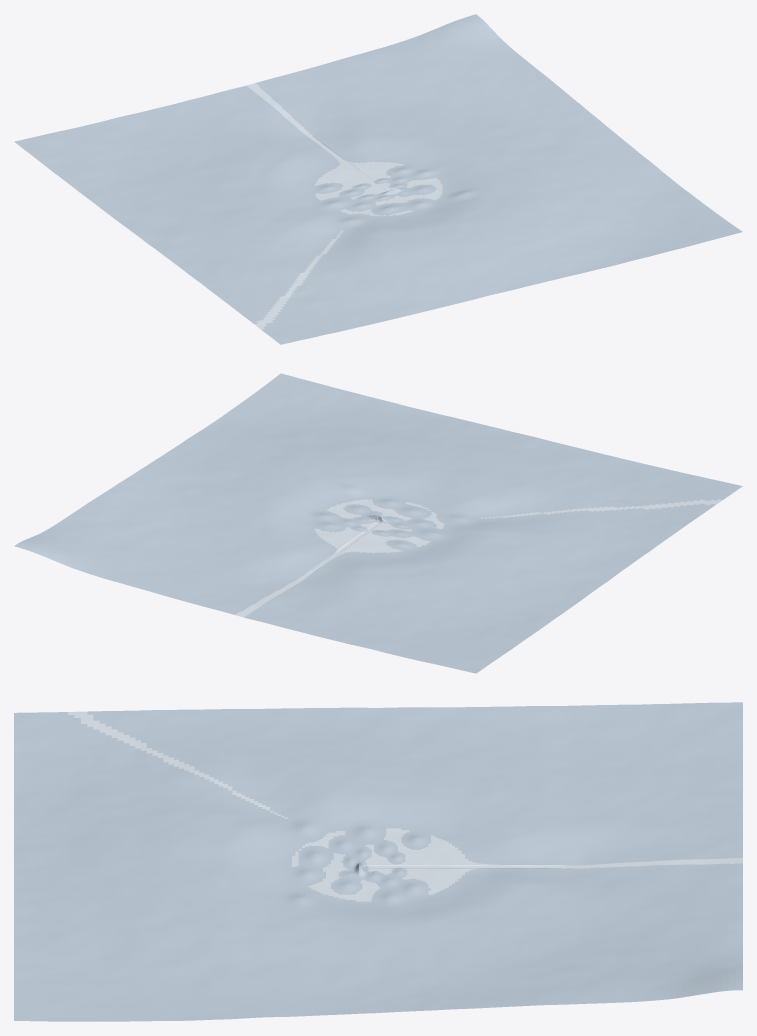
File: Frontier_Ground.fbx
3 renders of one model, top to bottom at view 1: azimuth 30°, elevation 25°; view 2: azimuth 150°, elevation 25°; view 3: azimuth 270°, elevation 25°, orthographic. The views are drawn at different scales.
Visible parts, largest first — view 1: Frontier_Ground; view 2: Frontier_Ground; view 3: Frontier_Ground.
Part boxes in pixels (left/top/right/bottom): Frontier_Ground: left=14, top=14, right=742, bottom=344; Frontier_Ground: left=14, top=373, right=742, bottom=673; Frontier_Ground: left=14, top=702, right=742, bottom=1021.
Size of what is drawn, in the model's own units: 120000 by 6124 by 120000.
